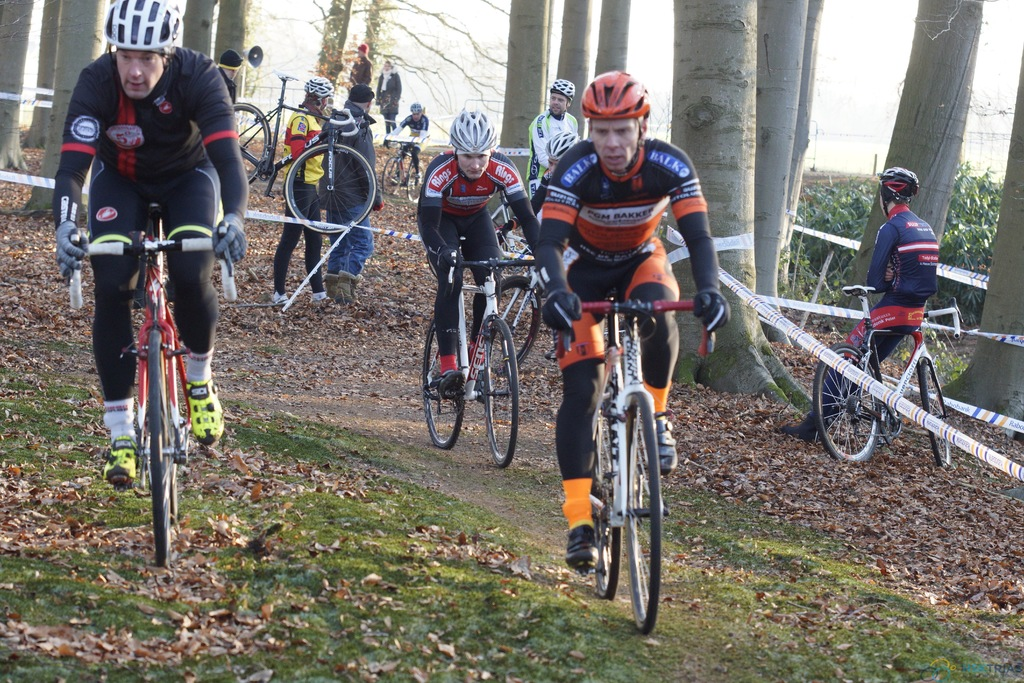Bike: (54, 211, 272, 570)
